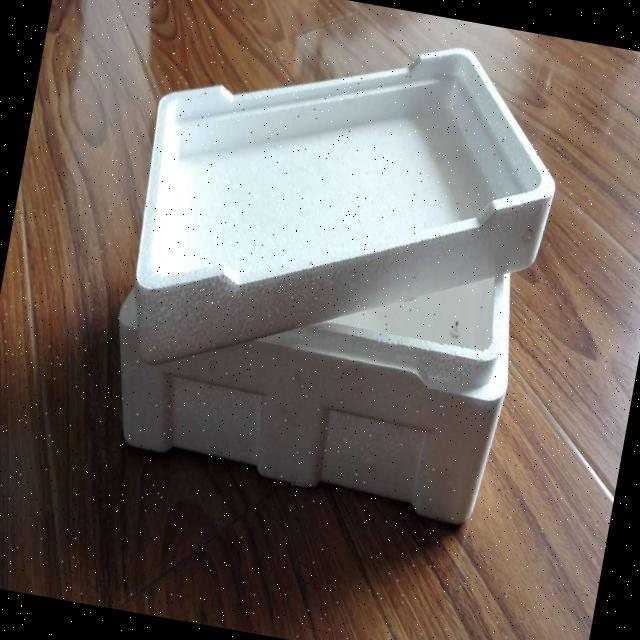styrofoam: (91, 0, 577, 531)
